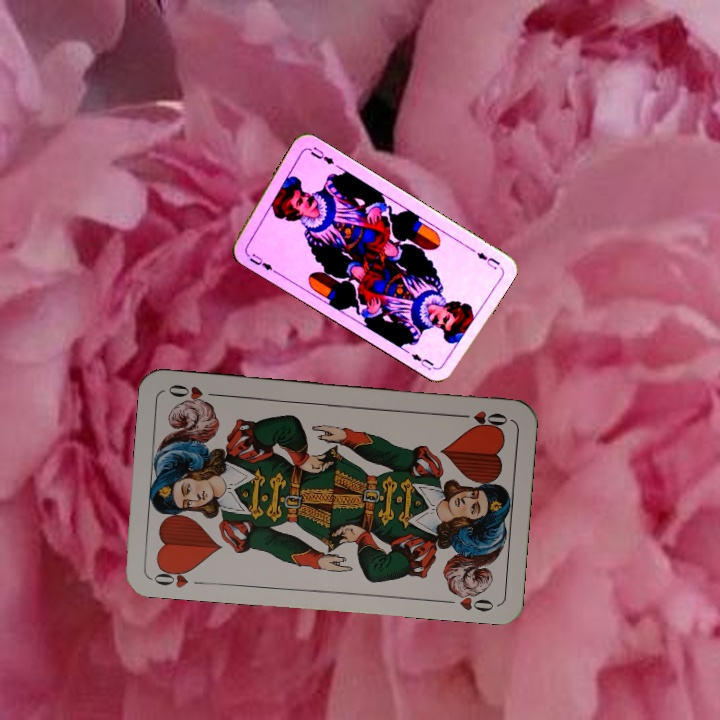EU: (242, 247, 278, 275), (473, 248, 503, 272)
HO: (149, 562, 196, 591), (452, 406, 510, 429)
